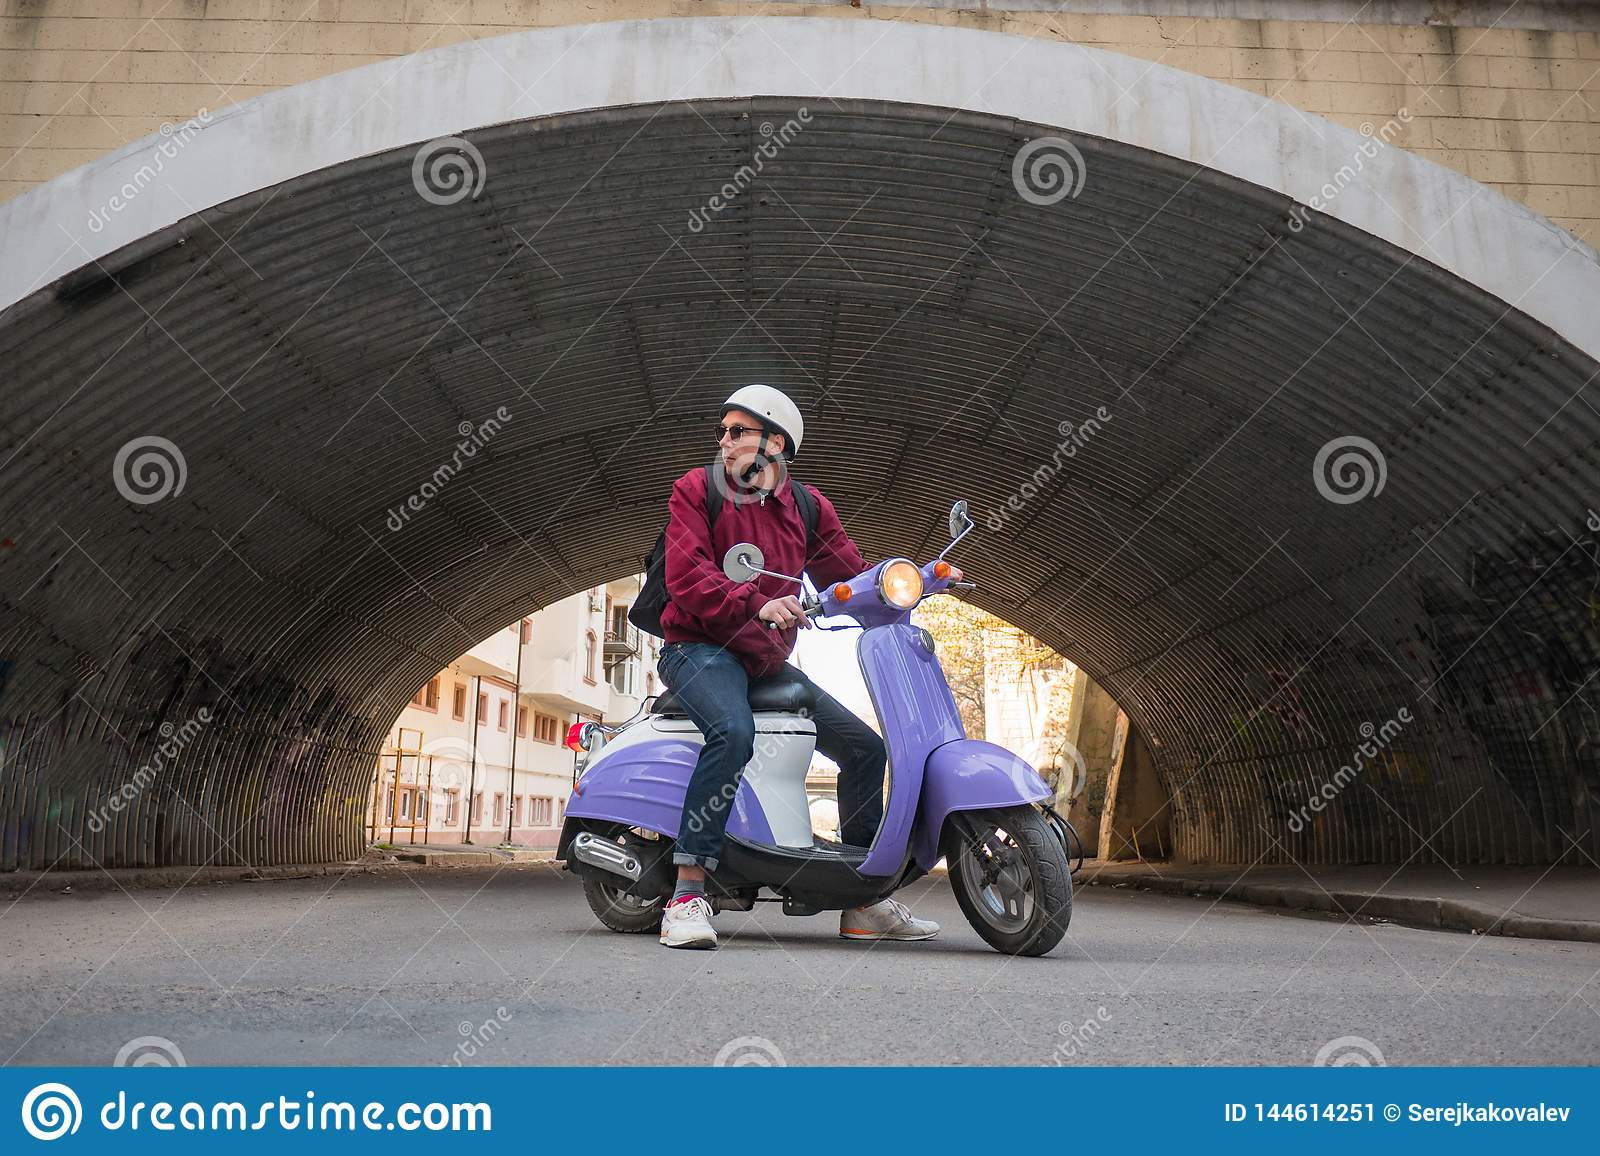helmet: (725, 377, 814, 449)
